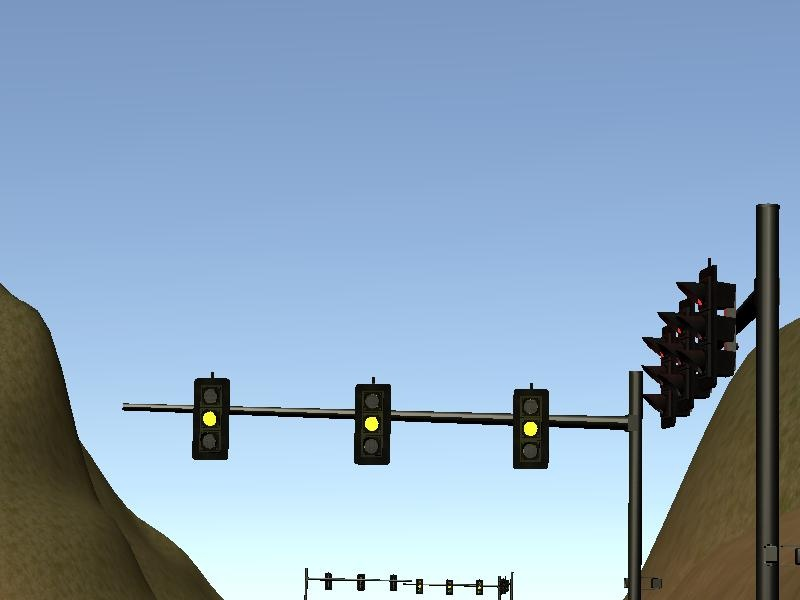YELLOW: (191, 378, 230, 461), (353, 381, 392, 464), (511, 387, 550, 470)
